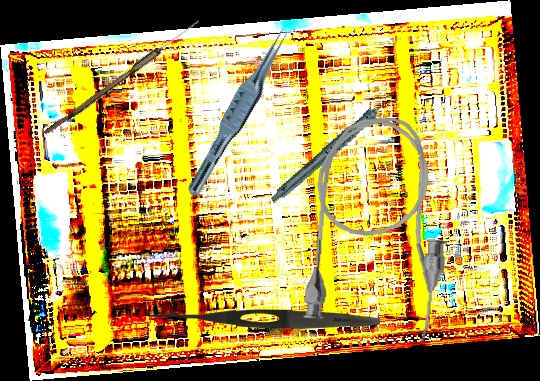Cannula: (300, 112, 456, 343)
Dressing Forceps: (148, 306, 381, 332)
Handpiece: (255, 95, 414, 204)
Surgical Spoon: (43, 16, 202, 139)
Tissue Forceps: (185, 22, 294, 203)
